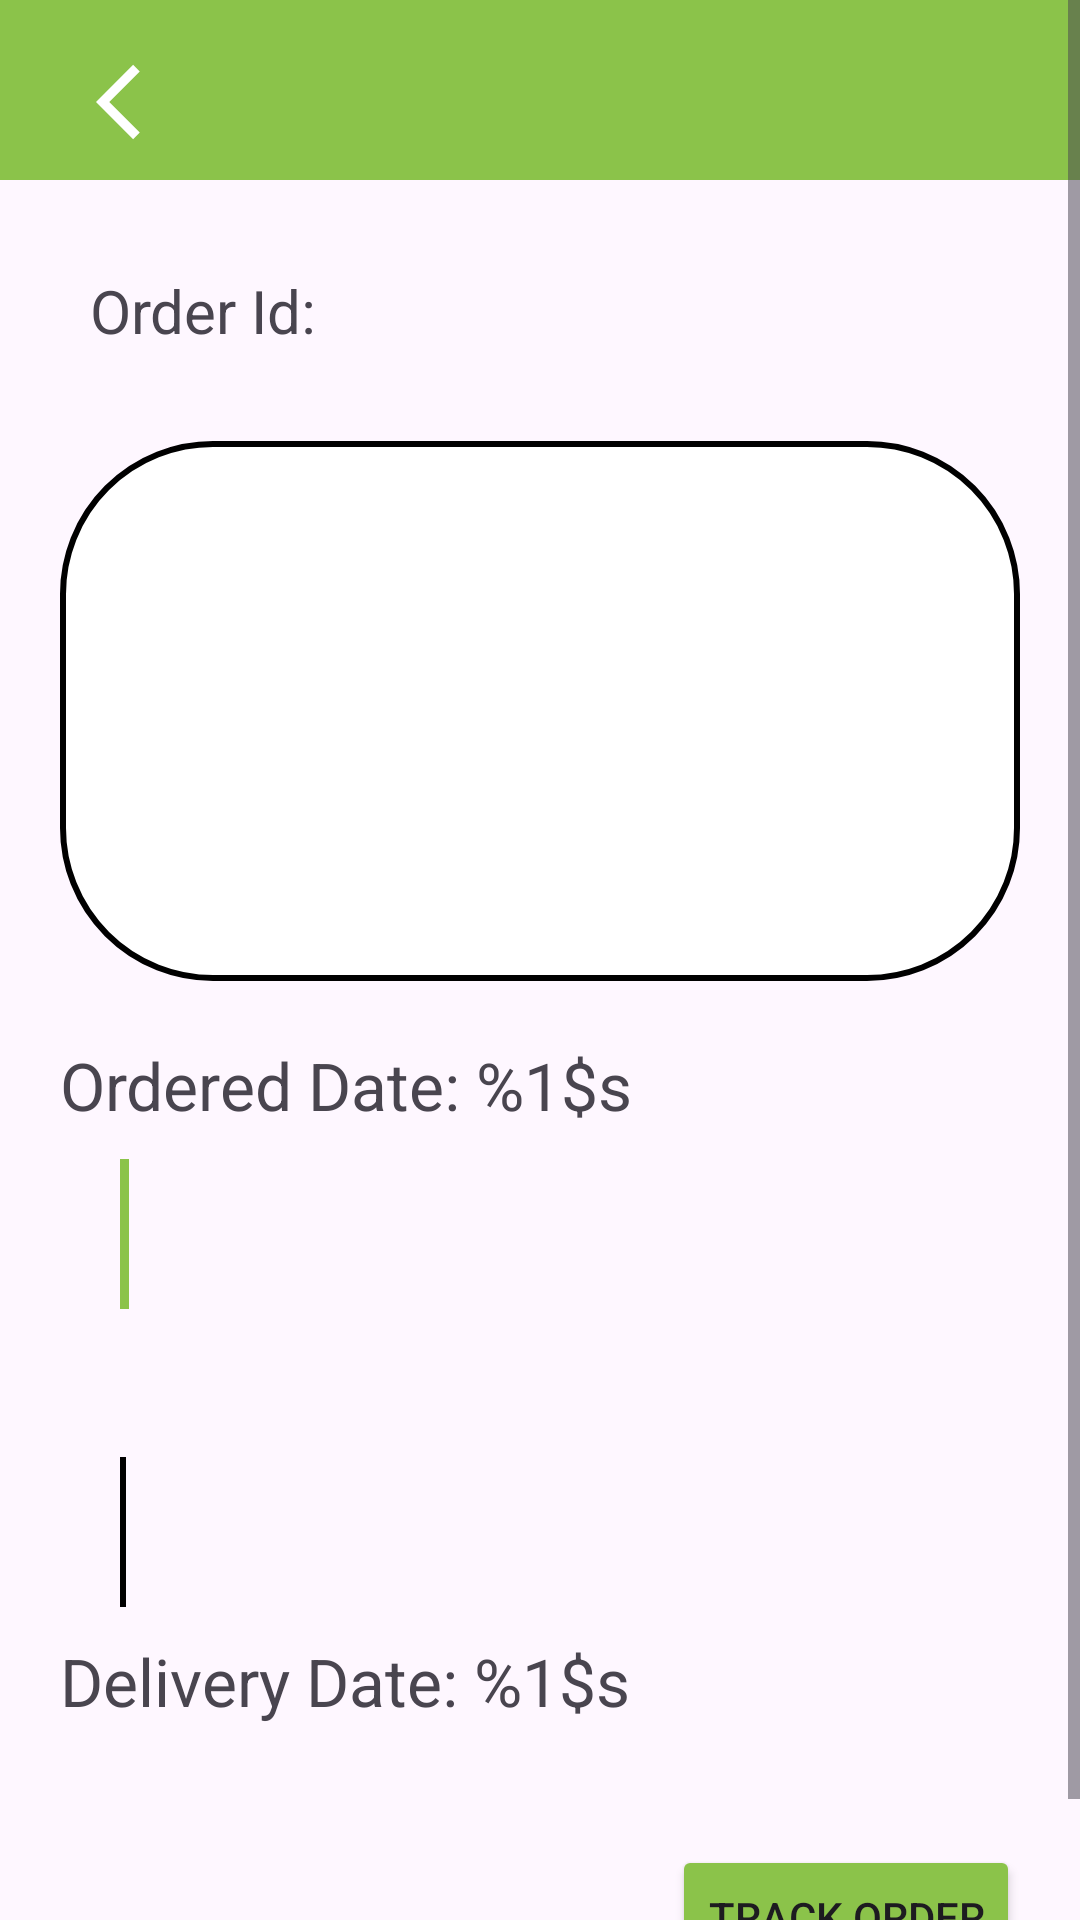

Screen size 1080px×1920px. Icon name, then its box in pixels as (x1, y1, x2, y2):
arrow back: (96, 65, 140, 139)
